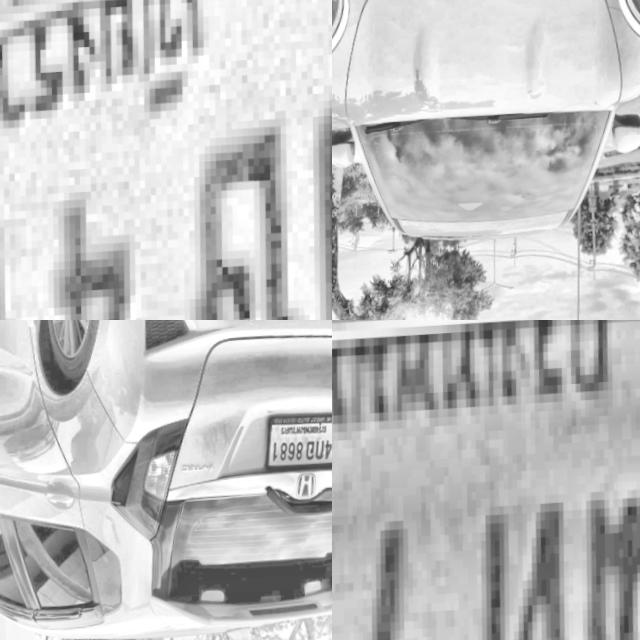license-plate: (0, 0, 332, 320), (332, 320, 640, 640), (263, 409, 332, 475)
